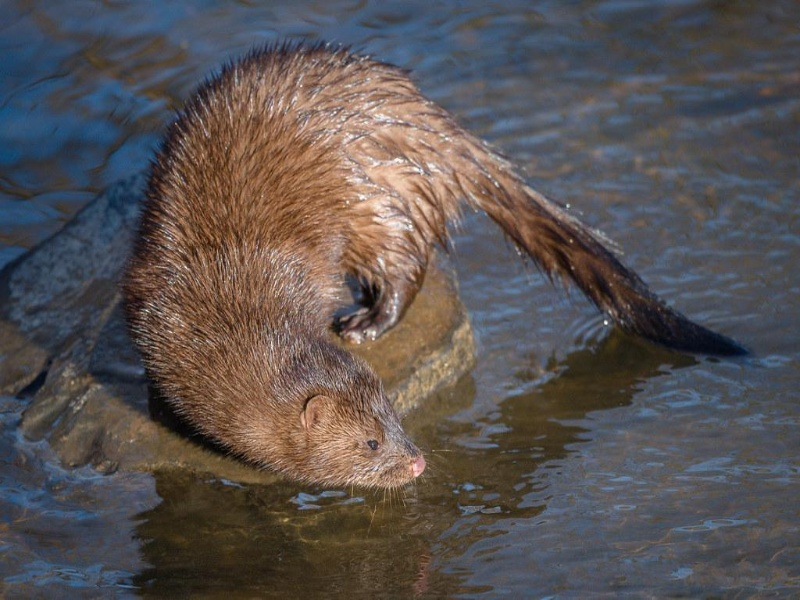minkish: (121, 38, 745, 496)
